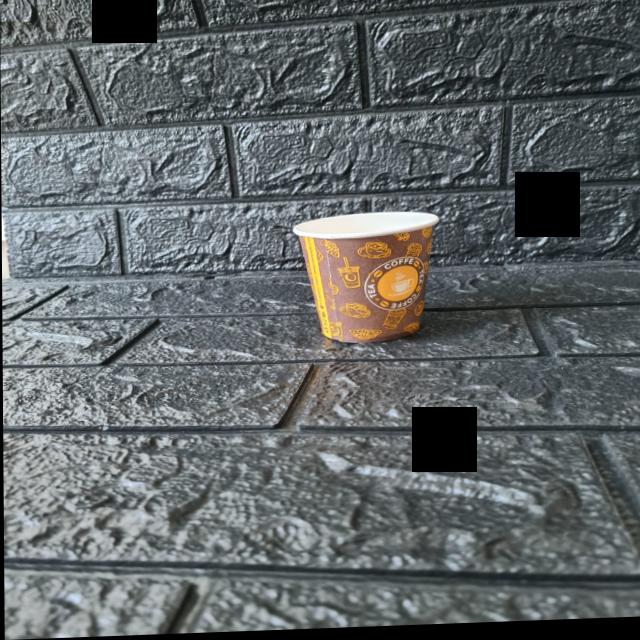cups: (292, 213, 443, 348)
